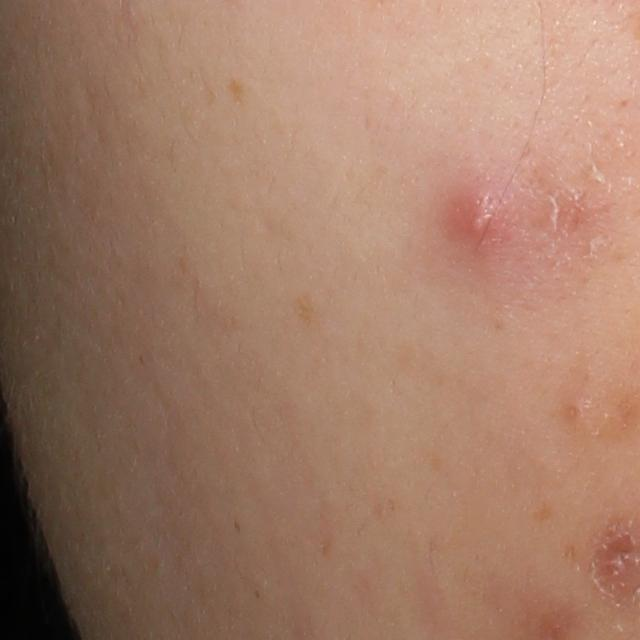melasma: (226, 76, 248, 107)
